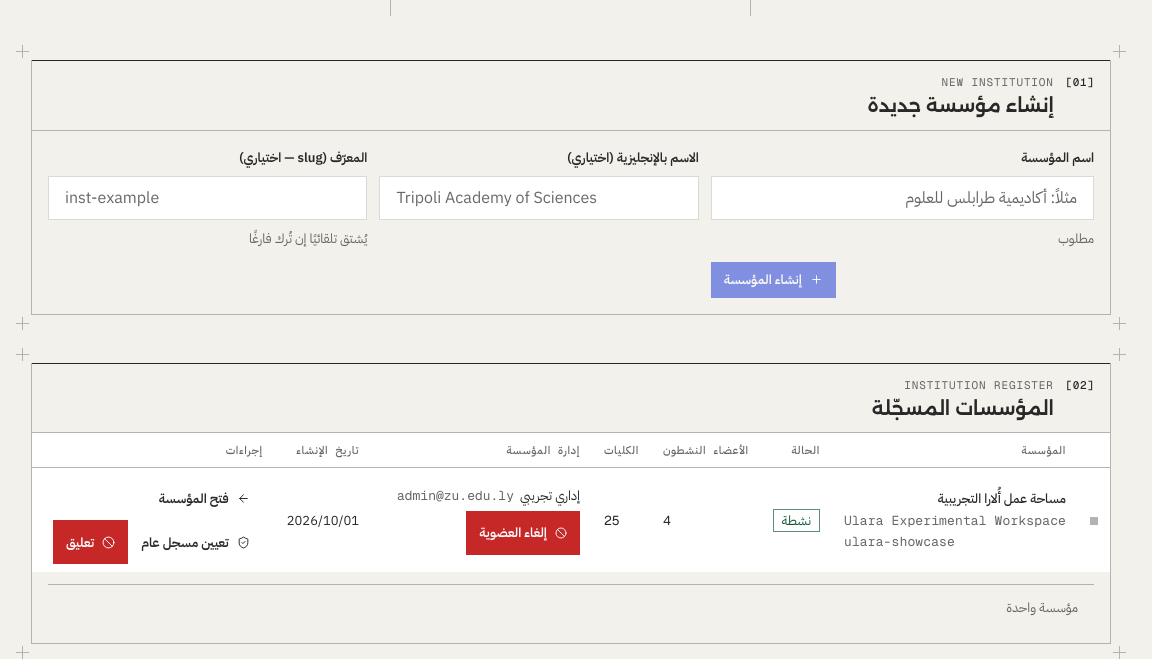
it: OwnerInstitutionsPage — status toggle (r178) › confirms suspension and PATCHes status SUSPENDED for the named institution
Later steps or results of the test are not shown.
(page scrolled)
Click the button "تعليق".
click(91, 542)  # box [53, 520, 128, 564]
(page scrolled)
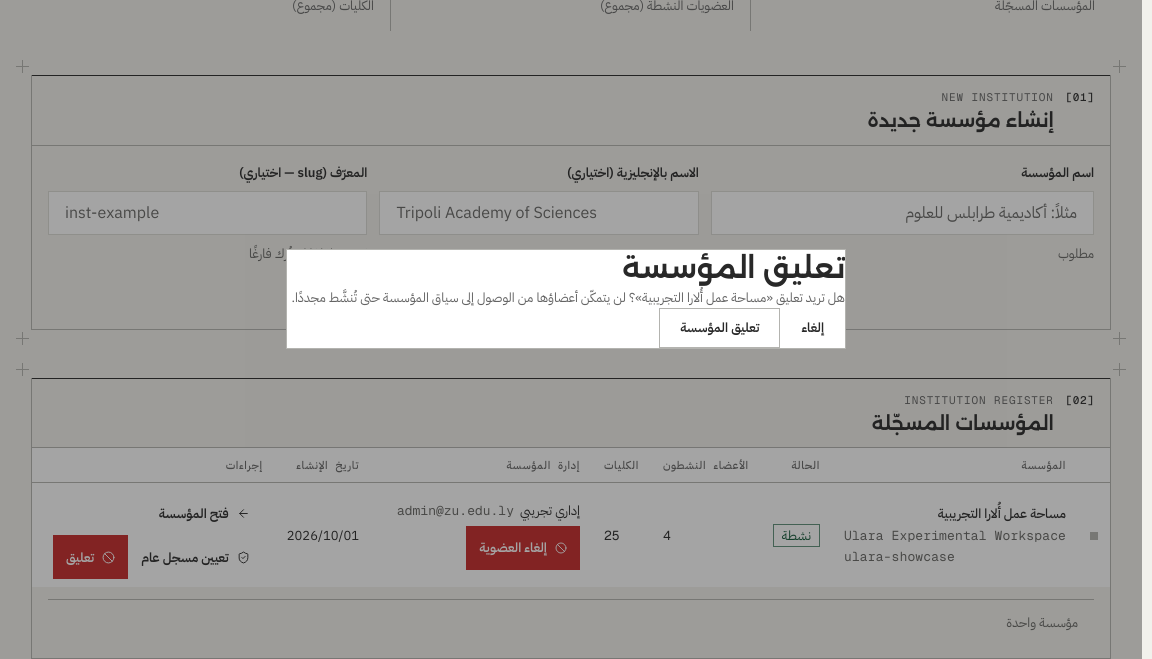
expect the text "هل تريد تعليق «مساحة عمل أُلارا التجريبية»" is shown: met, box [291, 288, 845, 307]
